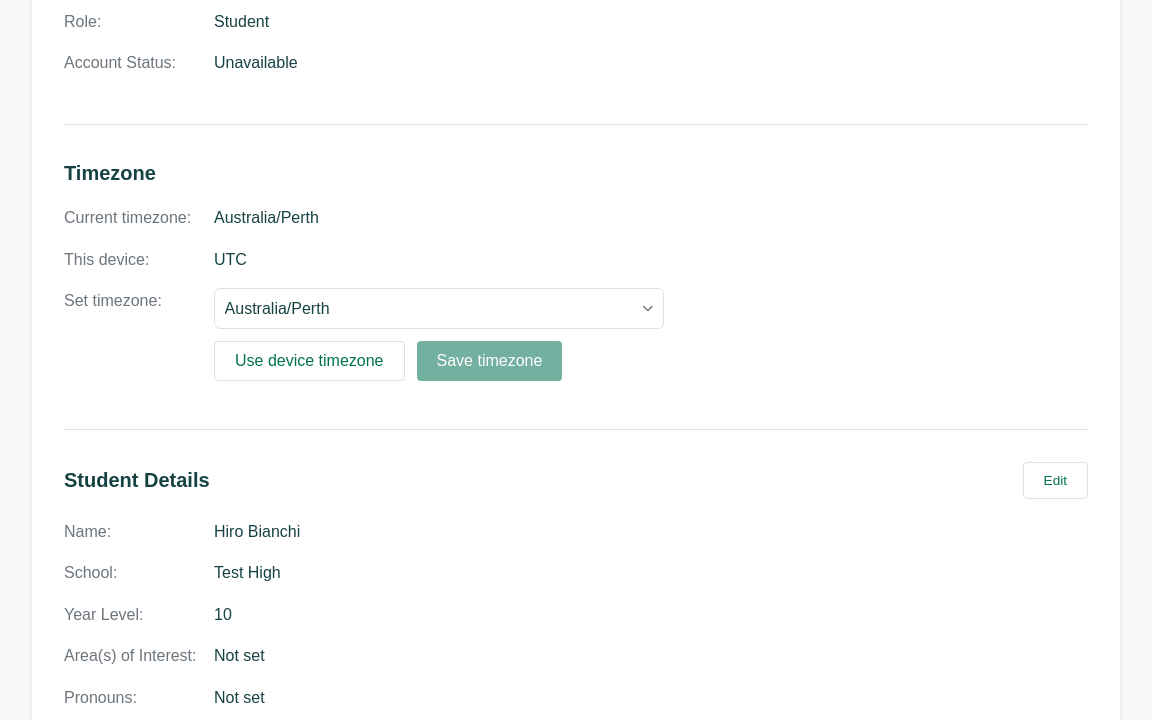
Scenario: Profile photo and timezone › saves this device's timezone
(page scrolled)
Check: the button "Save timezone" is disabled, box [416,340,562,380]
Click the button "Use device timezone". click: (309, 360)
box: [214,340,404,380]
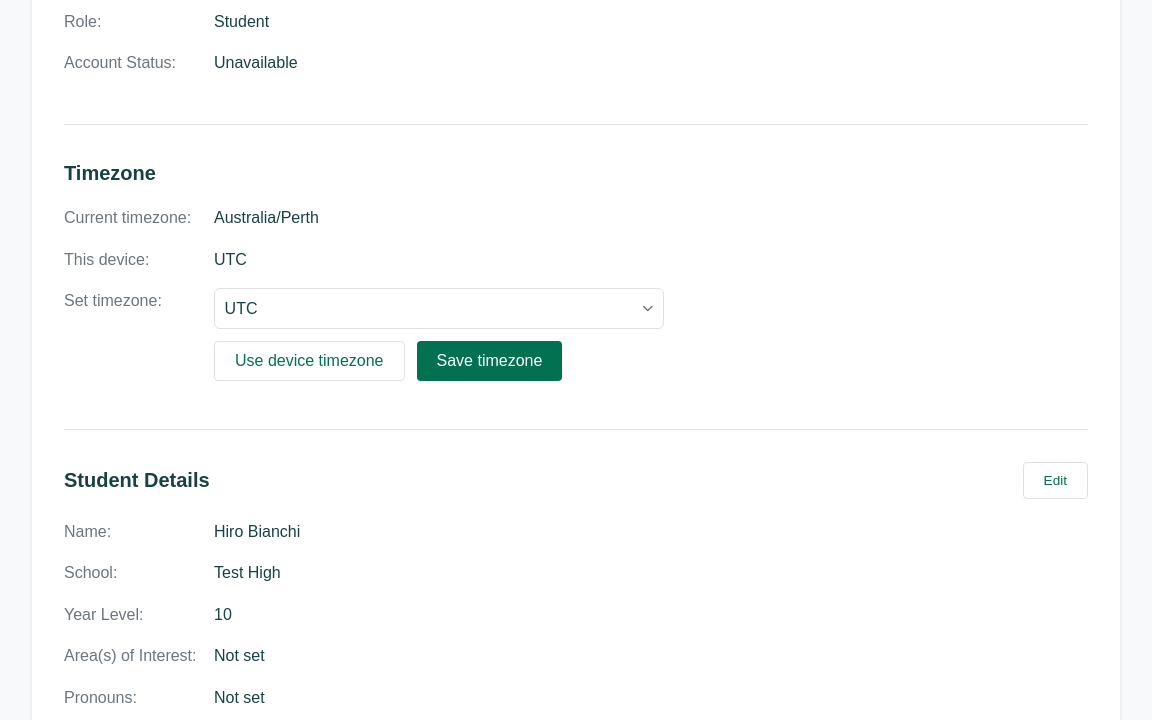
Check: the button "Save timezone" is enabled
Click the button "Save timezone". click: (489, 360)
box: [416,340,562,380]
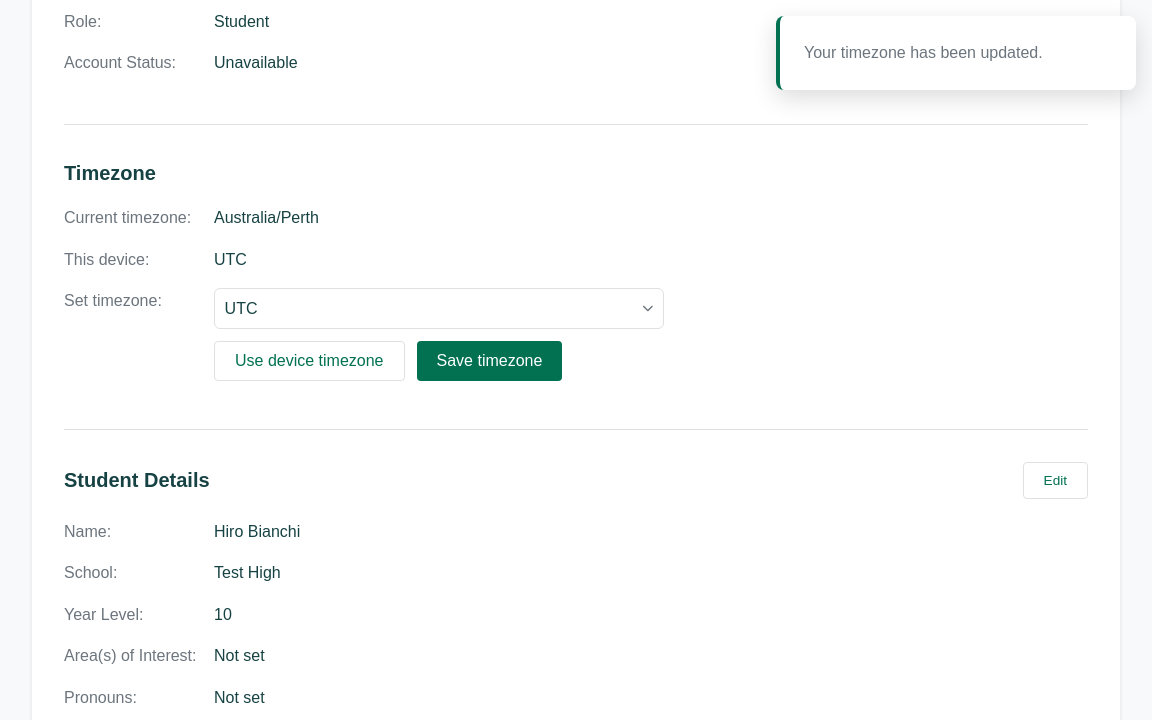
Check: the element with class "status-card" reads "Your timezone has been updated.", box [804,44,1043,61]
